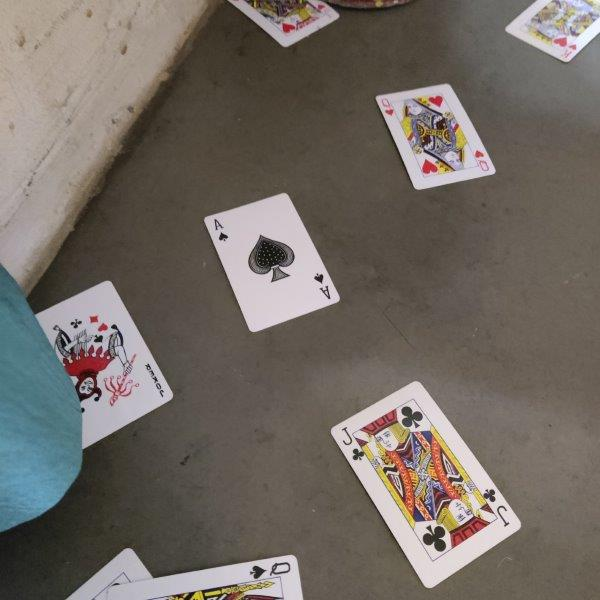Ace of Spades: (203, 193, 343, 334)
Jack of Clubs: (330, 379, 521, 589)
Jack of Hearts: (227, 1, 342, 47)
Joker: (35, 280, 174, 450)
King of Hearts: (504, 1, 600, 65)
Queen of Hearts: (374, 82, 496, 190)
Queen of Spades: (108, 553, 307, 600)
